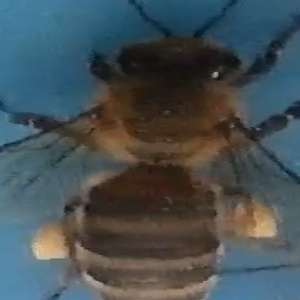bee: (25, 4, 295, 299)
